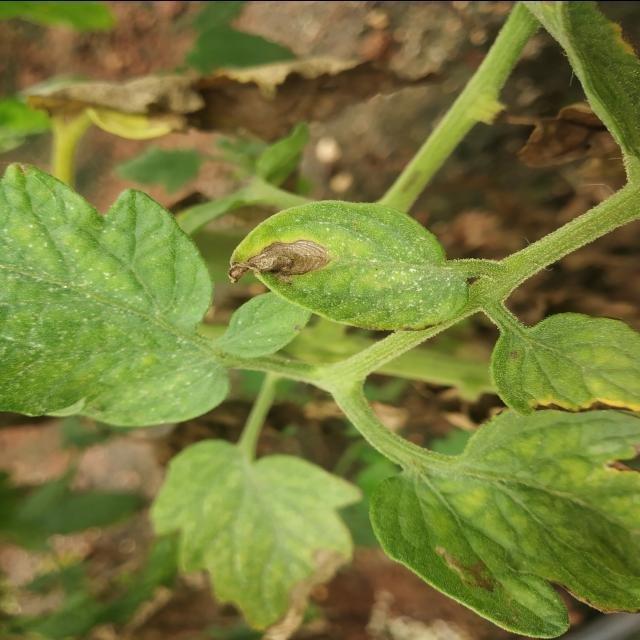Tomato mosaic virus leaf: (222, 193, 468, 334)
